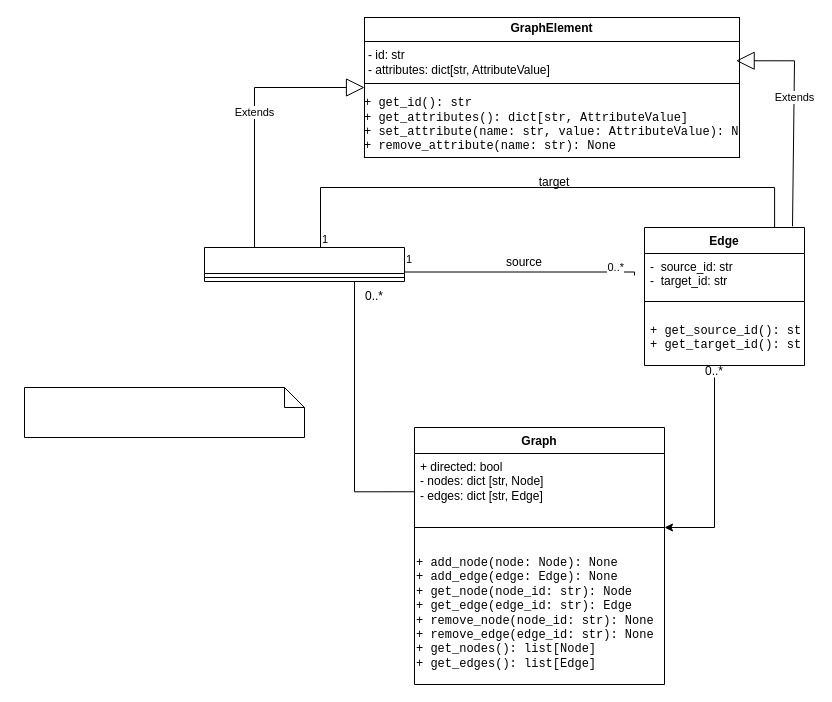
Some shapes in this 832 by 702 pixel diagram are drawn without their labels. The shapes that lost their labels are listed below. From the top down, each one's centre as x and y in pixels, then its label:
pixel 304 264: Node
pixel 164 412: AttributeValue = int | float | str | date
